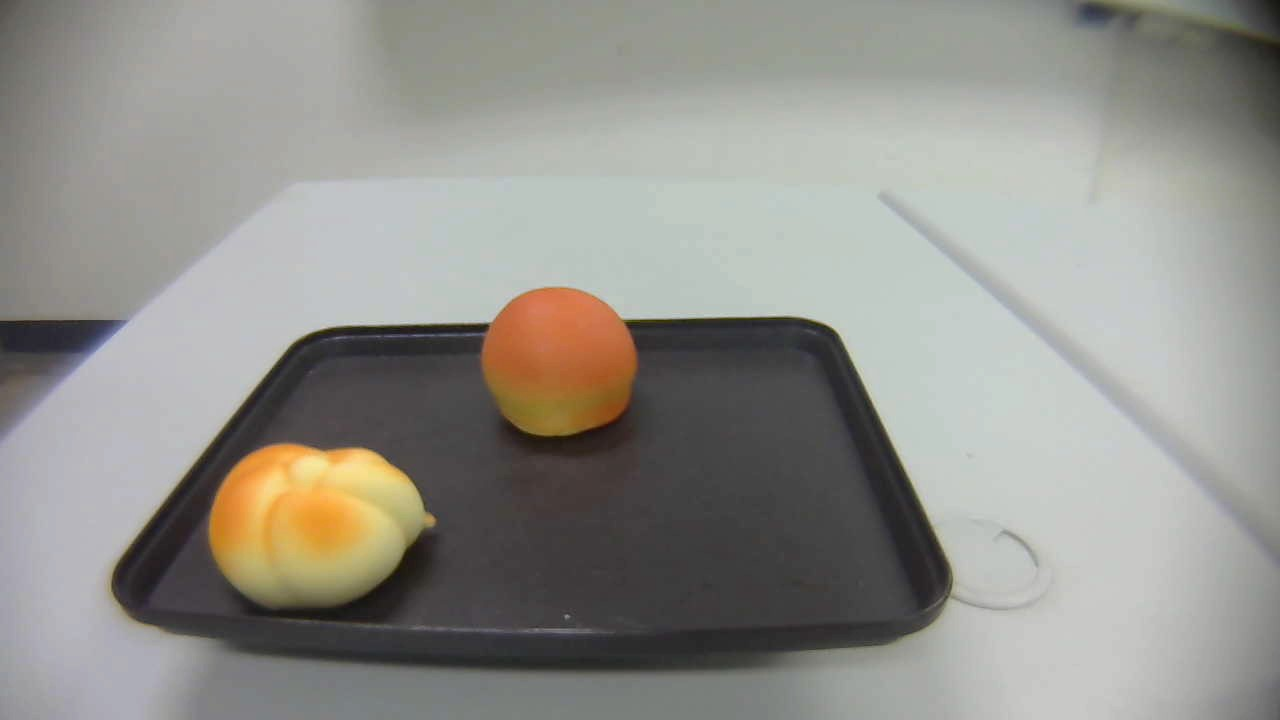bun: (479, 285, 639, 436)
twist bread: (209, 443, 438, 612)
